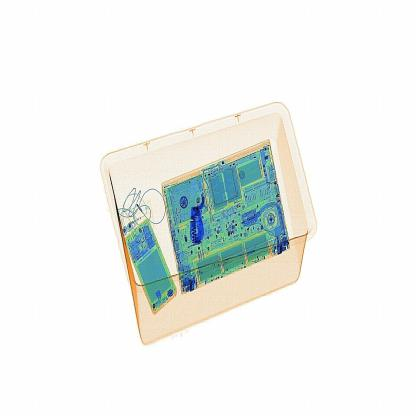scissors: (189, 205, 207, 248)
